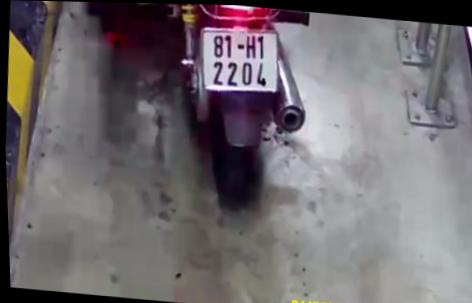LP: (195, 23, 285, 97)
